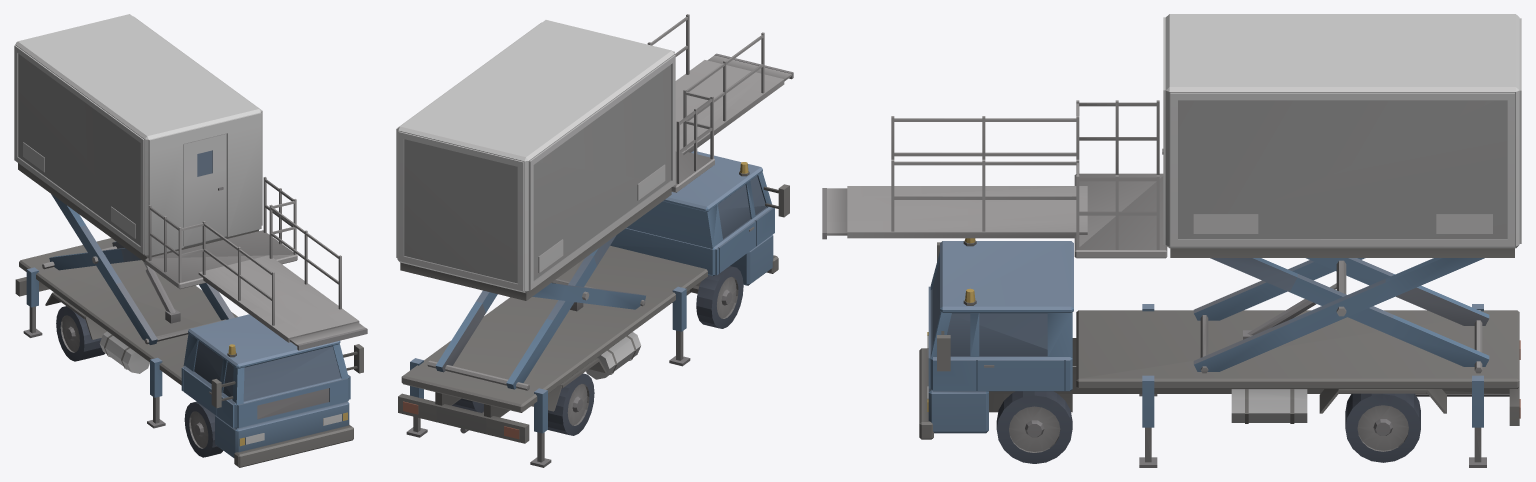
File: catering.glb
3 renders of one model, left to right at view 1: azimuth 30°, elevation 25°; view 2: azimuth 150°, elevation 25°; view 3: azimuth 270°, elevation 25°, orthographic. The views are drawn at different scales.
Visible parts, largest first — view 1: catering; view 2: catering; view 3: catering.
Boxes of the visible parts, bbox=[...] form: catering: bbox=[14, 14, 367, 467]; catering: bbox=[396, 14, 793, 467]; catering: bbox=[822, 14, 1521, 467].
Size of the model in its own units: 3 by 5.5 by 9.23.
